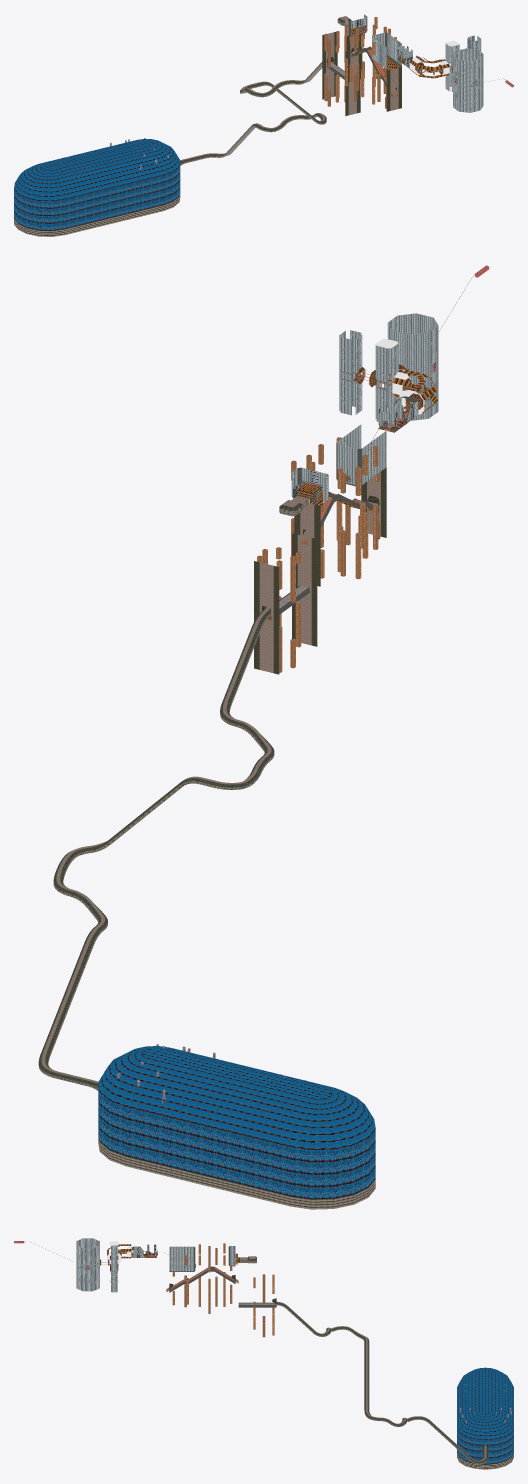
File: CannonsCoreSonic.obj
The picture shows the model from 3 angles, top to bottom: view 1: azimuth 30°, elevation 25°; view 2: azimuth 150°, elevation 25°; view 3: azimuth 270°, elevation 25°; orthographic projection. The views are drawn at different scales.
Bounding box in the file's own units: 4930 × 5820 × 10530.
Materials: 43 (43 with a texture image).
